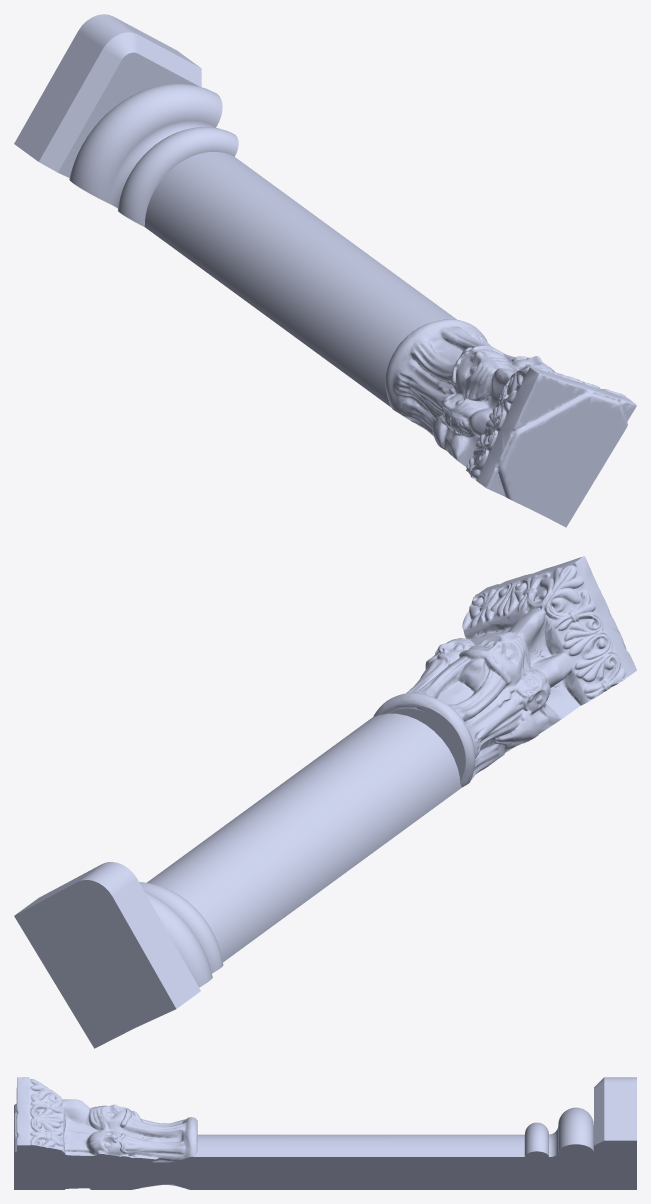
Rendered from Chapiteau_9_ultra_final.glb.
3 views of the same model, one above another, from view 1: azimuth 30°, elevation 25°; view 2: azimuth 150°, elevation 25°; view 3: azimuth 270°, elevation 25° (orthographic). The views are drawn at different scales.
Parts seen in each view (by area): view 1: Chapiteau_9_ultra_final.glb; view 2: Chapiteau_9_ultra_final.glb; view 3: Chapiteau_9_ultra_final.glb.
Part boxes in pixels (x1,y1,x2,y2): Chapiteau_9_ultra_final.glb: (14,14,636,527); Chapiteau_9_ultra_final.glb: (14,556,636,1048); Chapiteau_9_ultra_final.glb: (14,1077,636,1189).
Bounding box in the file's own units: 0.7232 × 0.7131 × 3.61.
